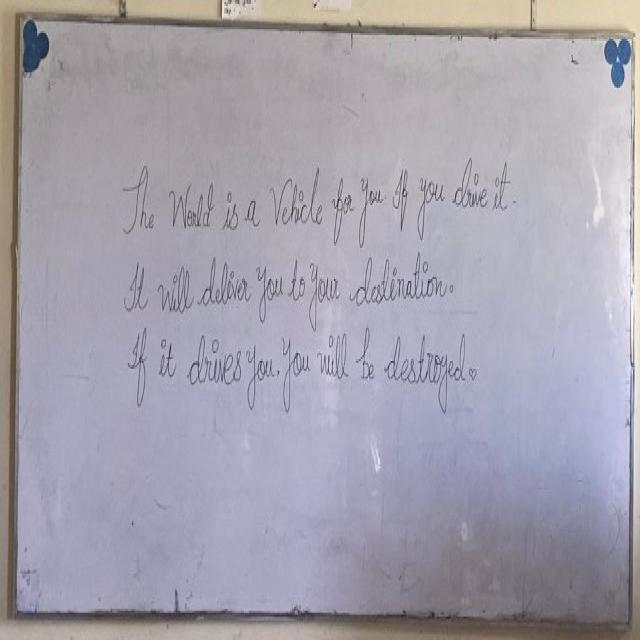White-board: (13, 15, 633, 624)
